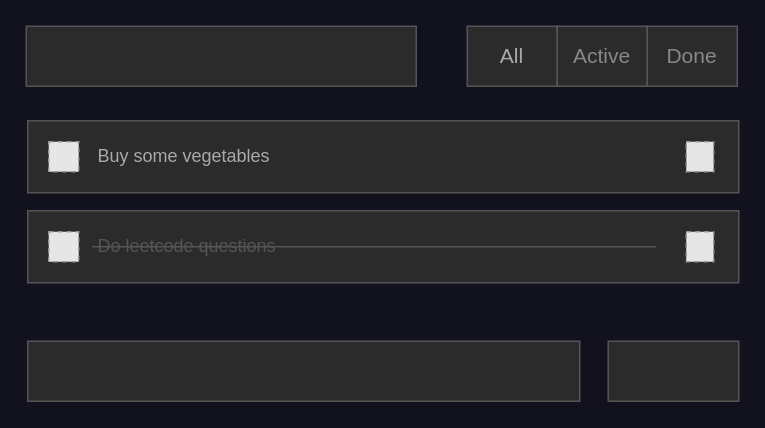
This 765x428 diagram has some shape labels left out. Grey dashed boxes stand in for pictures. The centre of each missing label's shape, as x and y in pixels:
"ADD" belongs at [673,370].
"Search..." belongs at [220,55].
"Something on your mind?" belongs at [303,370].
